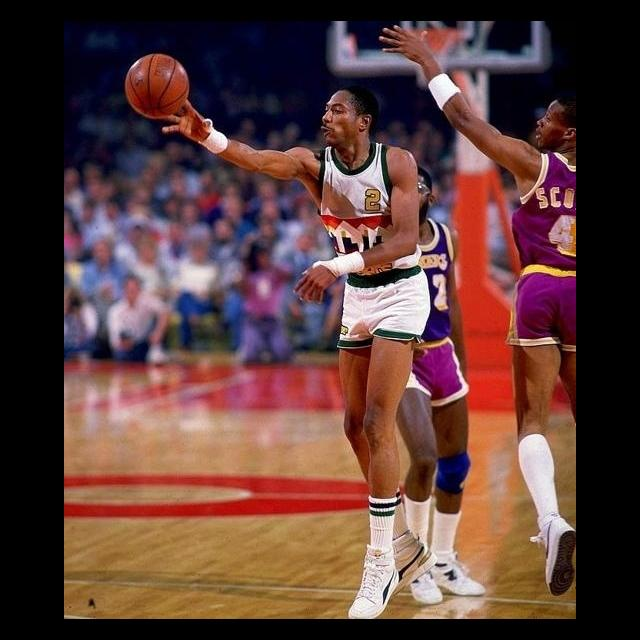basketball: (122, 50, 189, 118)
